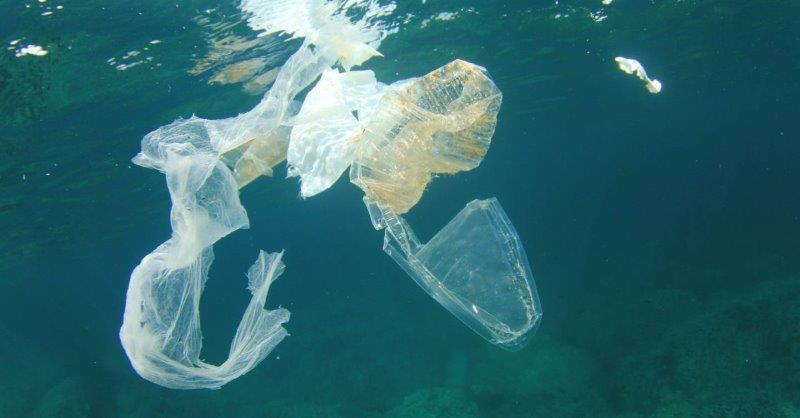plastic: (120, 51, 296, 393), (284, 59, 505, 217), (364, 193, 544, 352)
